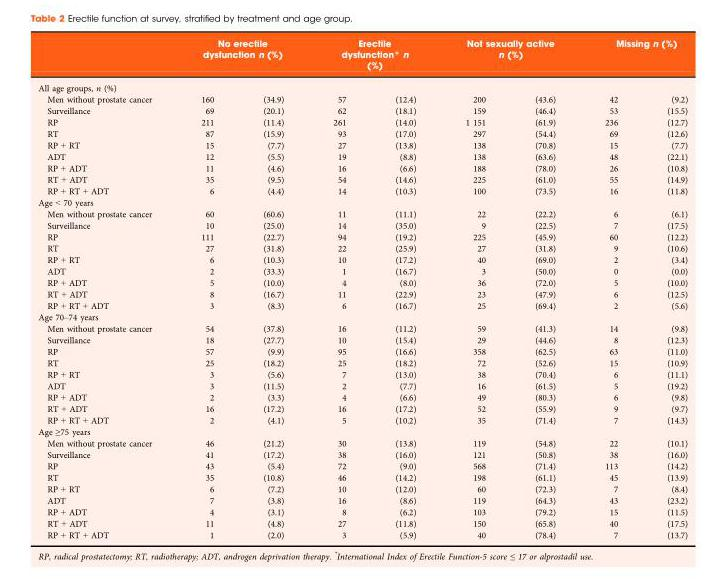table: (37, 37, 687, 539)
table column: (37, 37, 175, 539), (369, 37, 440, 539), (237, 37, 307, 539), (509, 37, 579, 539), (440, 37, 509, 539), (175, 37, 237, 539), (307, 37, 369, 539), (579, 37, 641, 539), (641, 37, 687, 539)
table column header: (37, 37, 687, 104)
table projected row header: (37, 310, 687, 322), (37, 196, 687, 207), (37, 425, 687, 436)
table row: (37, 37, 687, 76), (37, 76, 687, 93), (37, 104, 687, 116), (37, 138, 687, 150), (37, 161, 687, 173), (37, 184, 687, 196), (37, 207, 687, 219), (37, 230, 687, 242), (37, 253, 687, 265), (37, 287, 687, 299), (37, 310, 687, 322), (37, 333, 687, 345), (37, 356, 687, 368), (37, 379, 687, 391), (37, 413, 687, 425), (37, 436, 687, 448), (37, 459, 687, 471), (37, 482, 687, 494), (37, 505, 687, 517), (37, 93, 687, 104), (37, 116, 687, 127), (37, 127, 687, 138), (37, 150, 687, 161), (37, 173, 687, 184), (37, 196, 687, 207), (37, 219, 687, 230), (37, 242, 687, 253), (37, 265, 687, 276), (37, 276, 687, 287), (37, 299, 687, 310), (37, 322, 687, 333), (37, 345, 687, 356), (37, 368, 687, 379), (37, 391, 687, 402), (37, 402, 687, 413), (37, 425, 687, 436), (37, 448, 687, 459), (37, 471, 687, 482), (37, 494, 687, 505), (37, 517, 687, 528), (37, 528, 687, 539)
table spanning cell: (37, 76, 687, 93), (440, 37, 579, 76), (307, 37, 440, 76), (175, 37, 307, 76), (579, 37, 687, 76)
